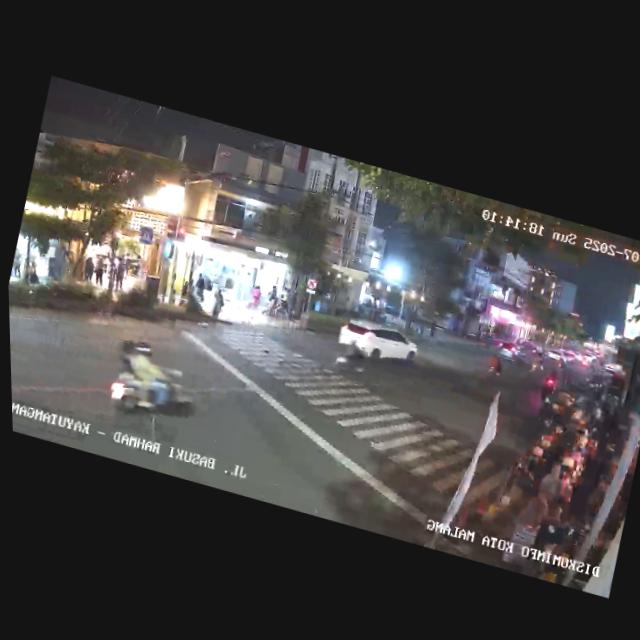car: (333, 312, 423, 376), (493, 340, 524, 365)
motorcycle: (97, 334, 202, 433), (329, 331, 376, 382), (484, 351, 506, 381)
person: (500, 488, 552, 578), (189, 273, 210, 311), (208, 286, 227, 323), (9, 245, 27, 282), (80, 252, 99, 286), (91, 254, 109, 289), (110, 256, 127, 292), (263, 285, 280, 318), (246, 281, 264, 311), (276, 286, 292, 316)
